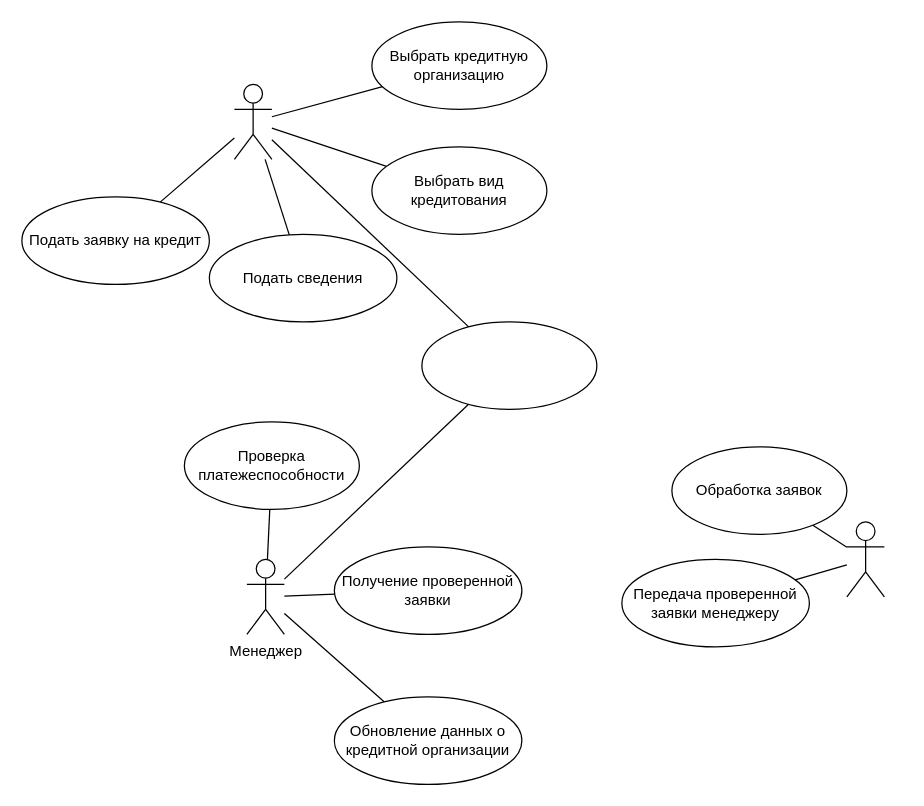
The diagram is 924 pixels wide and 806 high, and some of its shapes have lost their labels. Each missing label, with the box of its shape:
Диспетчер: (846, 521, 884, 597)
Клиент: (233, 83, 272, 159)
Оформить договор: (421, 321, 597, 409)
